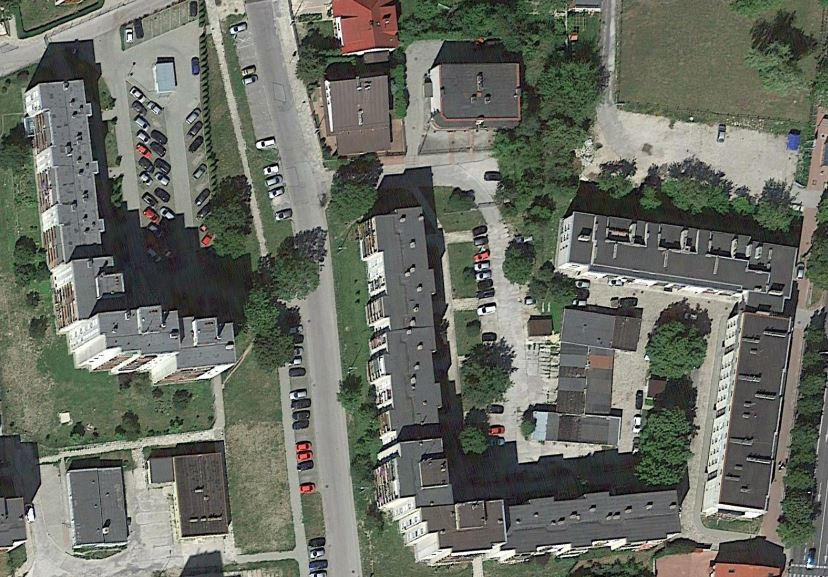block of flats: (356, 202, 686, 557), (553, 206, 804, 531), (18, 81, 240, 390), (424, 61, 535, 132)
family house: (322, 71, 395, 162), (330, 1, 403, 61)
garage: (526, 298, 643, 452), (144, 451, 240, 539), (63, 461, 133, 550)
